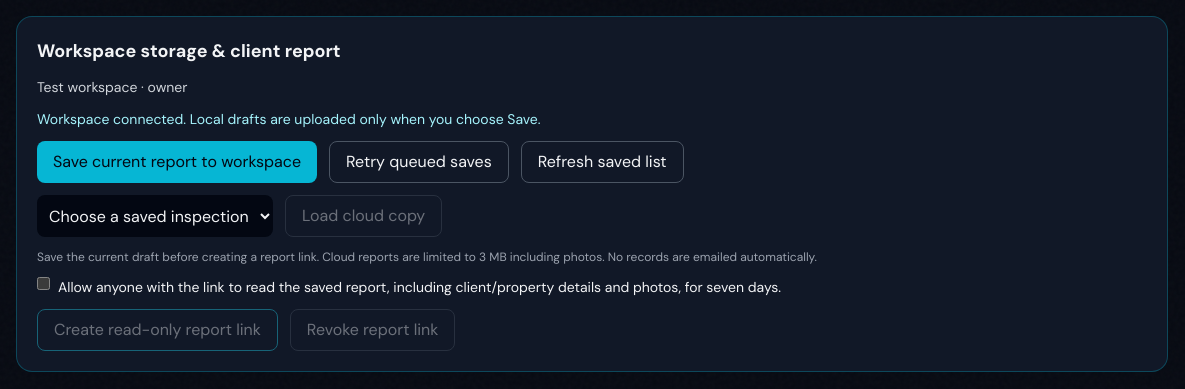
Test: retains the pending document after a rejected save
Click the button "Save current report to workspace" at (177, 162), box [37,141,317,183]
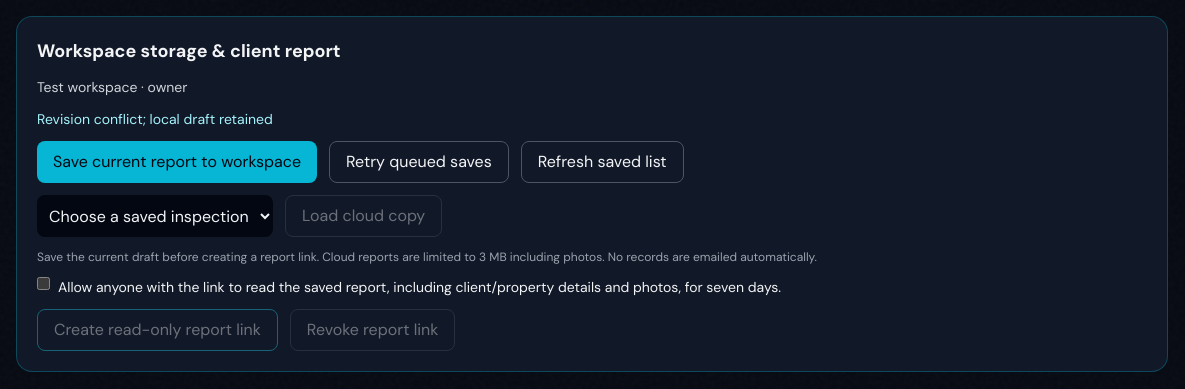
Expected: the button "Create read-only report link" is disabled, [37,309,278,351]
Expected: the text "Revision conflict; local draft retained" is shown, [37,110,273,128]
